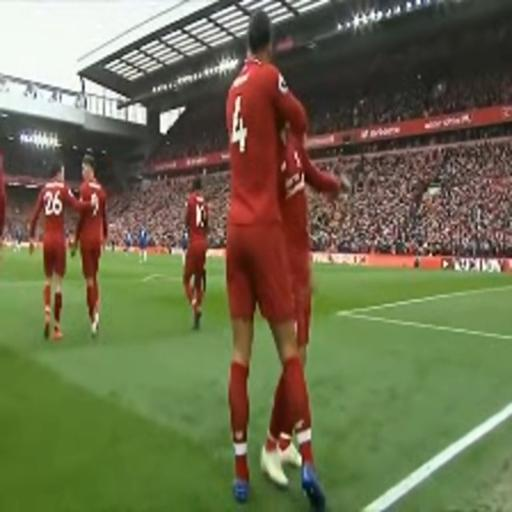nao-violencia: (217, 8, 361, 511), (20, 147, 121, 347), (174, 172, 221, 336)
